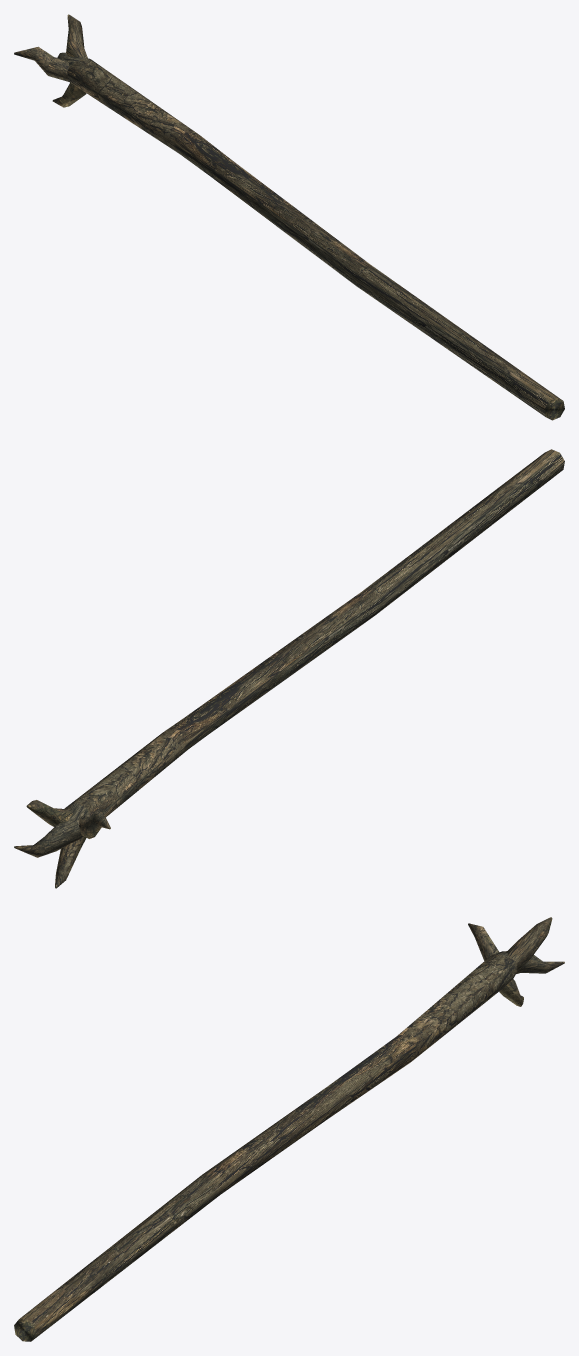
The model's file is Wooden magic stick.fbx.
The picture shows the model from 3 angles, top to bottom: view 1: azimuth 30°, elevation 25°; view 2: azimuth 150°, elevation 25°; view 3: azimuth 330°, elevation 25°; orthographic projection. The views are drawn at different scales.
Visible parts, largest first — view 1: Cylinder; view 2: Cylinder; view 3: Cylinder.
Part boxes in pixels (<box>): Cylinder: <box>14,14,564,420</box>; Cylinder: <box>14,449,564,888</box>; Cylinder: <box>14,917,564,1341</box>.
Bounding box in the file's own units: 83.62 × 79.99 × 911.
